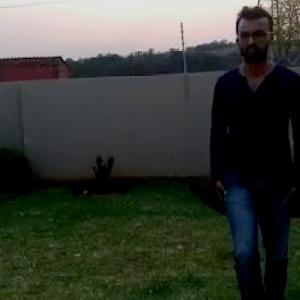follow: (211, 7, 300, 299)
